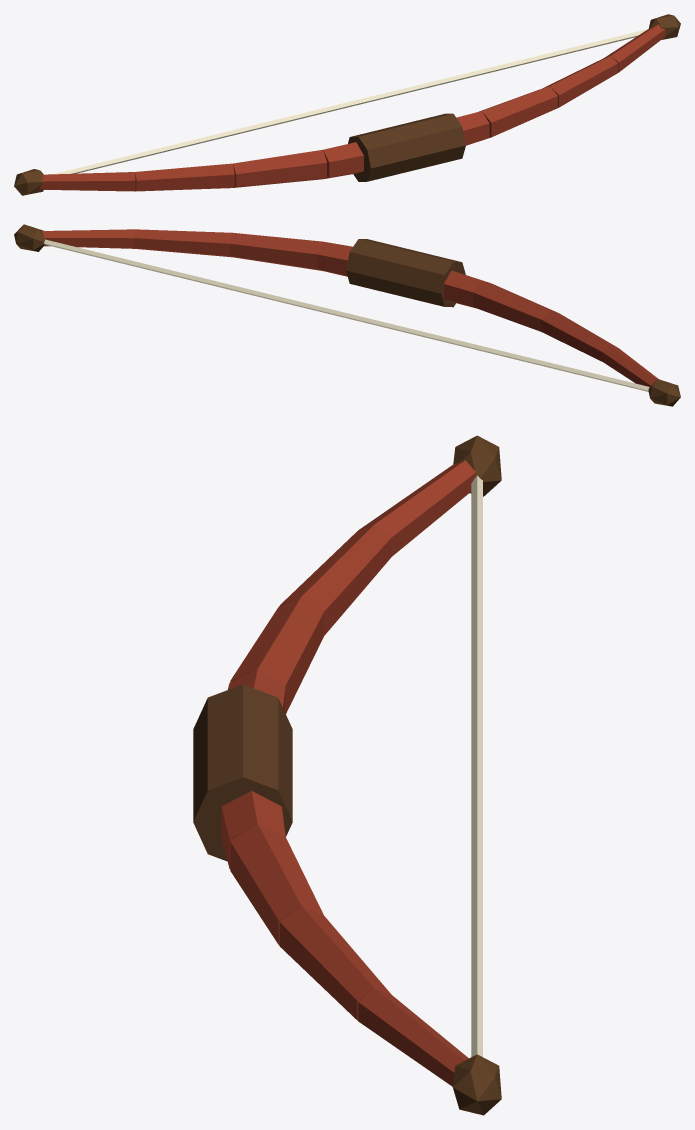
File: drop_yew_shortbow.glb
The picture shows the model from 3 angles, top to bottom: view 1: azimuth 30°, elevation 25°; view 2: azimuth 150°, elevation 25°; view 3: azimuth 270°, elevation 25°; orthographic projection. The views are drawn at different scales.
Visible parts, largest first — view 1: drop_yew_shortbow; view 2: drop_yew_shortbow; view 3: drop_yew_shortbow.
Part boxes in pixels (<box>): drop_yew_shortbow: <box>14,14,680,195</box>; drop_yew_shortbow: <box>14,224,680,406</box>; drop_yew_shortbow: <box>193,435,501,1115</box>.
Bounding box in the file's own units: 0.8416 × 0.0544 × 0.1686.
